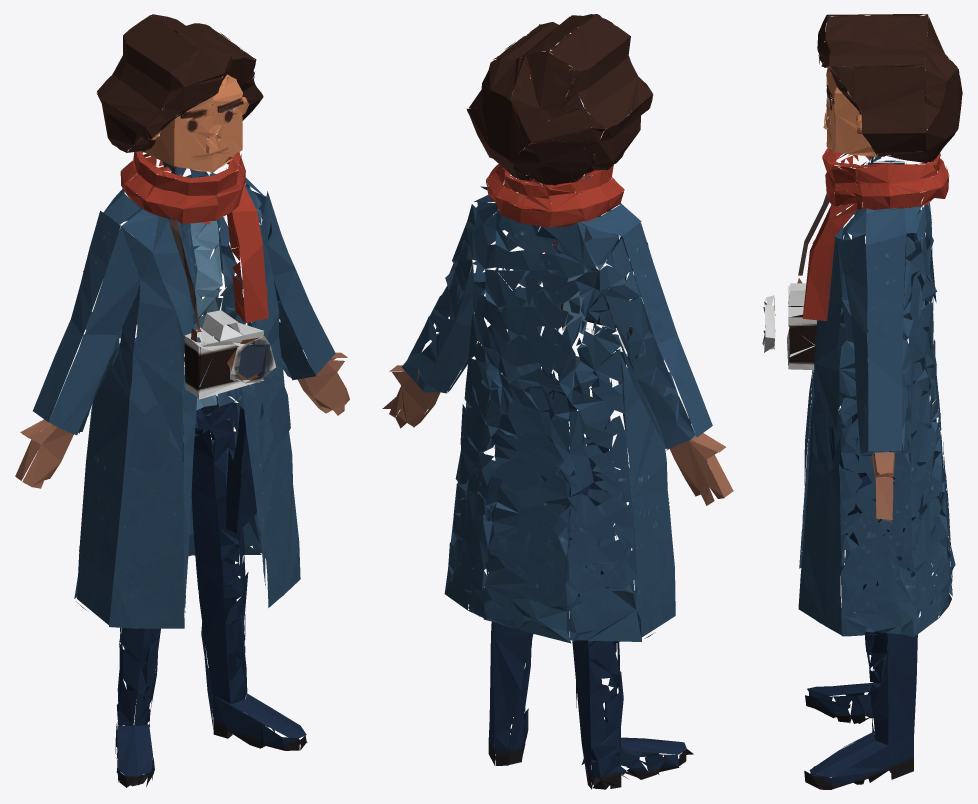
Rendered from habitant.glb.
The picture shows the model from 3 angles, left to right: view 1: azimuth 30°, elevation 25°; view 2: azimuth 150°, elevation 25°; view 3: azimuth 270°, elevation 25°; orthographic projection. The views are drawn at different scales.
Visible parts, largest first — view 1: world; view 2: world; view 3: world.
Boxes of the visible parts, box(x1,y1,x2,y2) form: world: box(15, 14, 349, 787); world: box(382, 14, 733, 789); world: box(762, 14, 962, 789).
Bounding box in the file's own units: 0.4883 × 1.01 × 0.251.
1 material, 1 textured.
